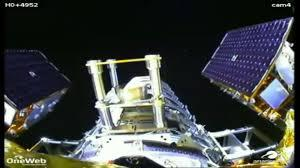solar: (200, 15, 294, 96), (0, 46, 77, 113)
